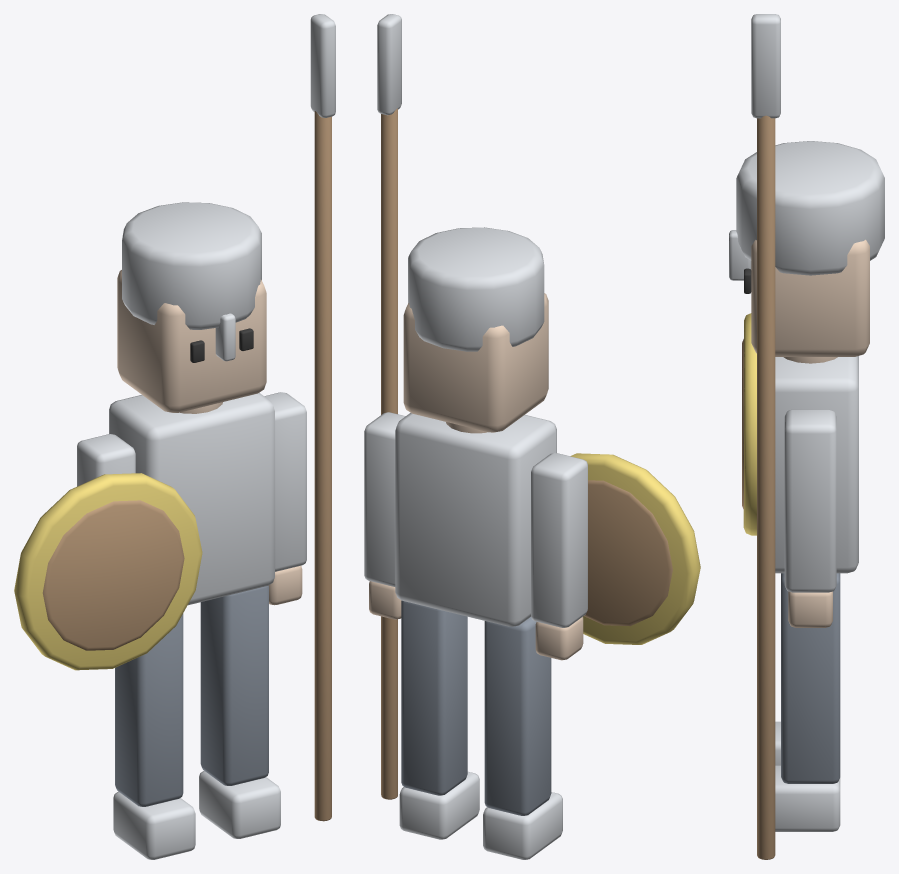
The model's file is npc_guard.glb.
3 views of the same model, side by side, from view 1: azimuth 30°, elevation 25°; view 2: azimuth 150°, elevation 25°; view 3: azimuth 270°, elevation 25° (orthographic). The views are drawn at different scales.
Parts seen in each view (by area): view 1: Aegis_Torso, Aegis_Shield_Center, Aegis_Helmet, Aegis_Leg_R, Aegis_Spear_Shaft, Aegis_Shield_Rim, Aegis_Head, Aegis_Leg_L, Aegis_Arm_R, Aegis_Shoe_L, Aegis_Shoe_R, Aegis_Spear_Tip (+3 smaller); view 2: Aegis_Torso, Aegis_Helmet, Aegis_Head, Aegis_Leg_L, Aegis_Leg_R, Aegis_Shield_Center, Aegis_Arm_L, Aegis_Spear_Shaft, Aegis_Shield_Rim, Aegis_Arm_R, Aegis_Shoe_R, Aegis_Shoe_L (+3 smaller); view 3: Aegis_Helmet, Aegis_Spear_Shaft, Aegis_Leg_R, Aegis_Arm_R, Aegis_Torso, Aegis_Head, Aegis_Shoe_R, Aegis_Spear_Tip, Aegis_Shield_Rim, Aegis_Hand_R, Aegis_Nasal, Aegis_Shield_Center.
Part boxes in pixels (x1,y1,x2,y2): Aegis_Torso: (109, 392, 274, 605); Aegis_Shield_Center: (42, 500, 184, 650); Aegis_Helmet: (122, 202, 261, 329); Aegis_Leg_R: (200, 585, 268, 785); Aegis_Spear_Shaft: (314, 111, 331, 821); Aegis_Shield_Rim: (14, 473, 202, 670); Aegis_Head: (117, 270, 266, 412); Aegis_Leg_L: (115, 613, 183, 806); Aegis_Arm_R: (264, 392, 306, 571); Aegis_Shoe_L: (113, 791, 195, 859); Aegis_Shoe_R: (199, 771, 280, 838); Aegis_Spear_Tip: (310, 14, 335, 117); Aegis_Torso: (395, 413, 556, 626); Aegis_Helmet: (408, 227, 544, 351); Aegis_Head: (403, 293, 548, 432); Aegis_Leg_L: (484, 617, 551, 815); Aegis_Leg_R: (401, 600, 467, 795); Aegis_Shield_Center: (584, 480, 672, 626); Aegis_Arm_L: (531, 453, 587, 627); Aegis_Spear_Shaft: (381, 108, 397, 799); Aegis_Shield_Rim: (570, 453, 700, 644); Aegis_Arm_R: (364, 412, 405, 586); Aegis_Shoe_R: (399, 771, 479, 839); Aegis_Shoe_L: (483, 792, 562, 859); Aegis_Helmet: (736, 141, 884, 275); Aegis_Spear_Shaft: (757, 115, 775, 859); Aegis_Leg_R: (781, 573, 840, 783); Aegis_Arm_R: (784, 409, 836, 592); Aegis_Torso: (775, 356, 858, 573); Aegis_Head: (751, 239, 869, 356); Aegis_Shoe_R: (775, 765, 840, 831); Aegis_Spear_Tip: (751, 14, 780, 118); Aegis_Shield_Rim: (743, 313, 756, 535); Aegis_Hand_R: (788, 591, 832, 627); Aegis_Nasal: (729, 230, 751, 280); Aegis_Shield_Center: (742, 339, 743, 509).
Bounding box in the file's own units: 1.05 × 2.5 × 0.42.
